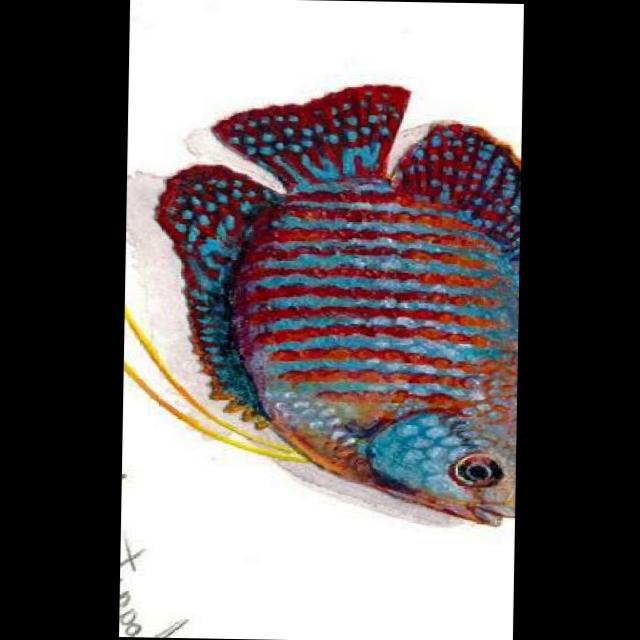Gourami: (161, 78, 523, 526)
